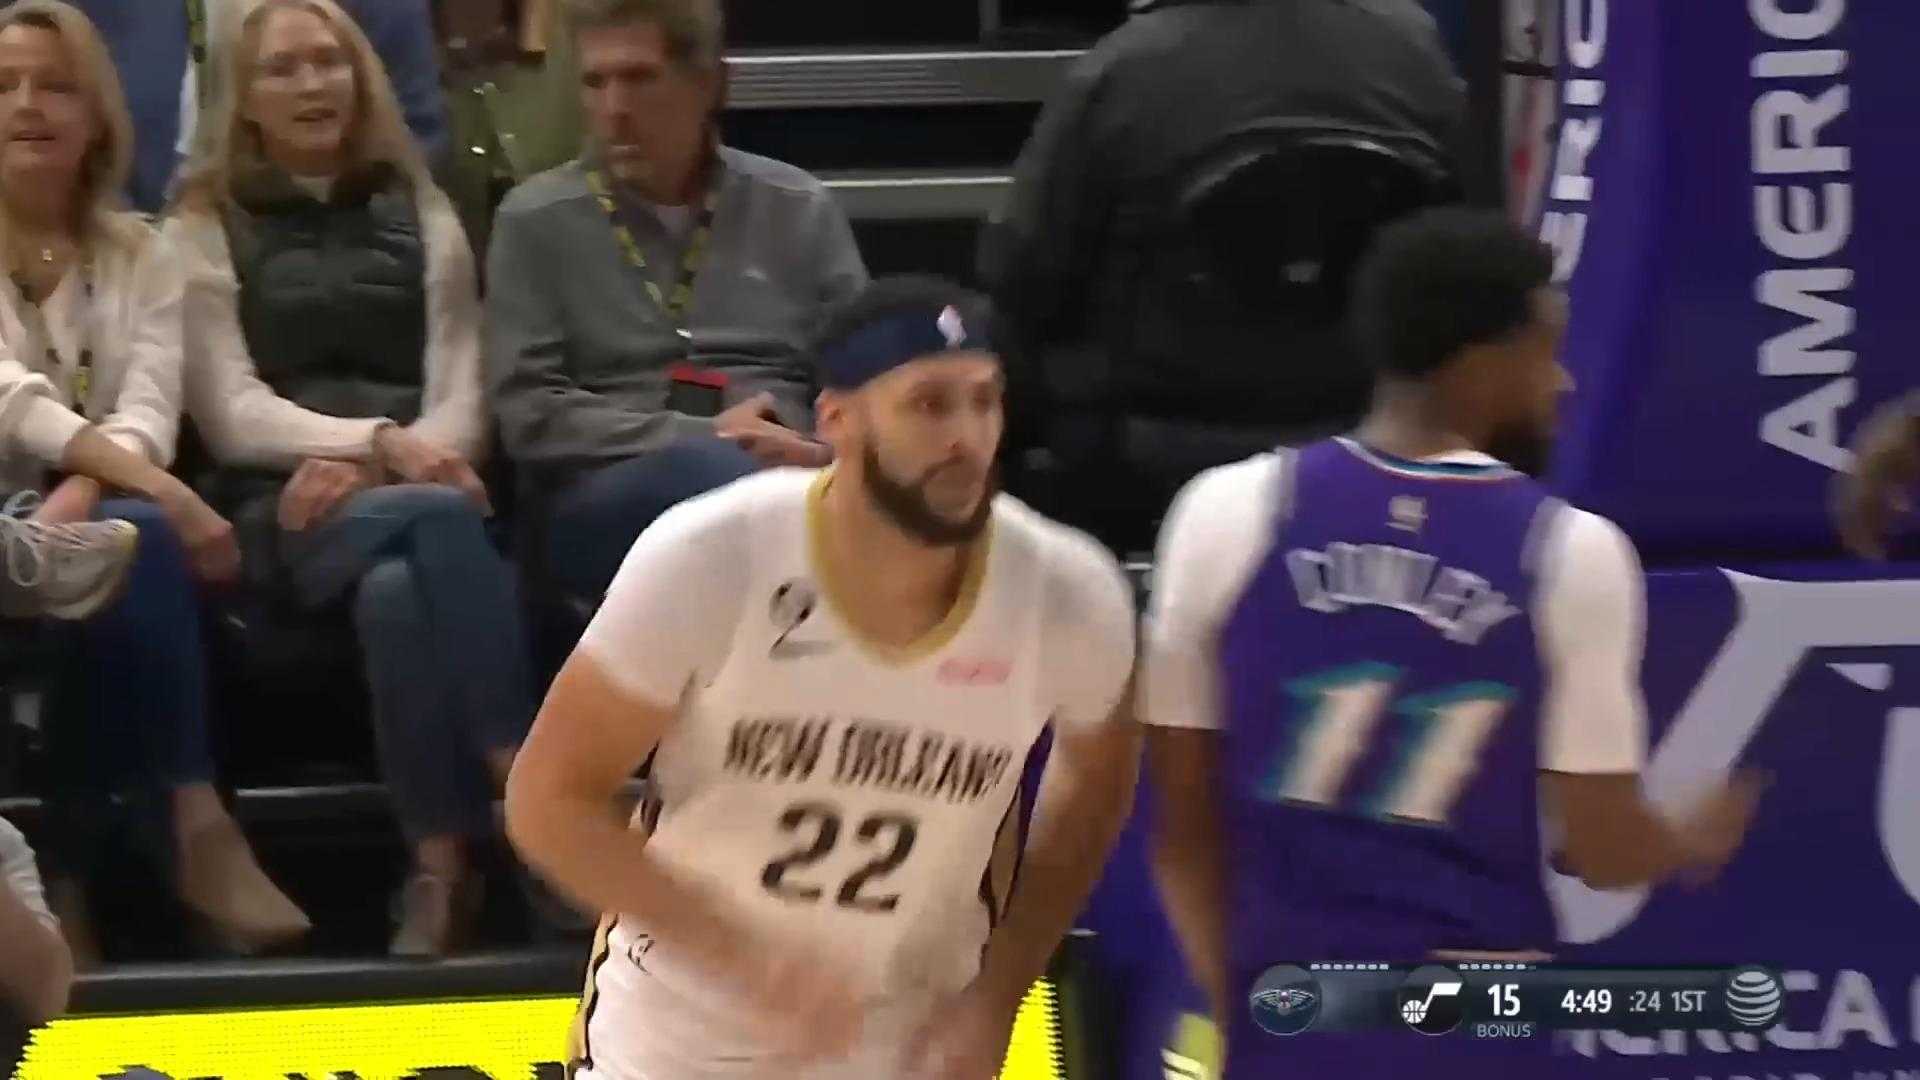basketball-player: (1148, 203, 1794, 1080), (488, 256, 1150, 1080)
